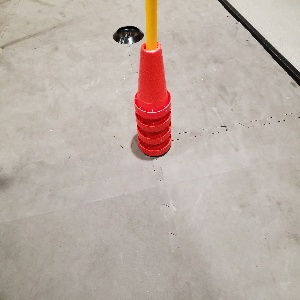Red_4: (133, 42, 171, 156)
